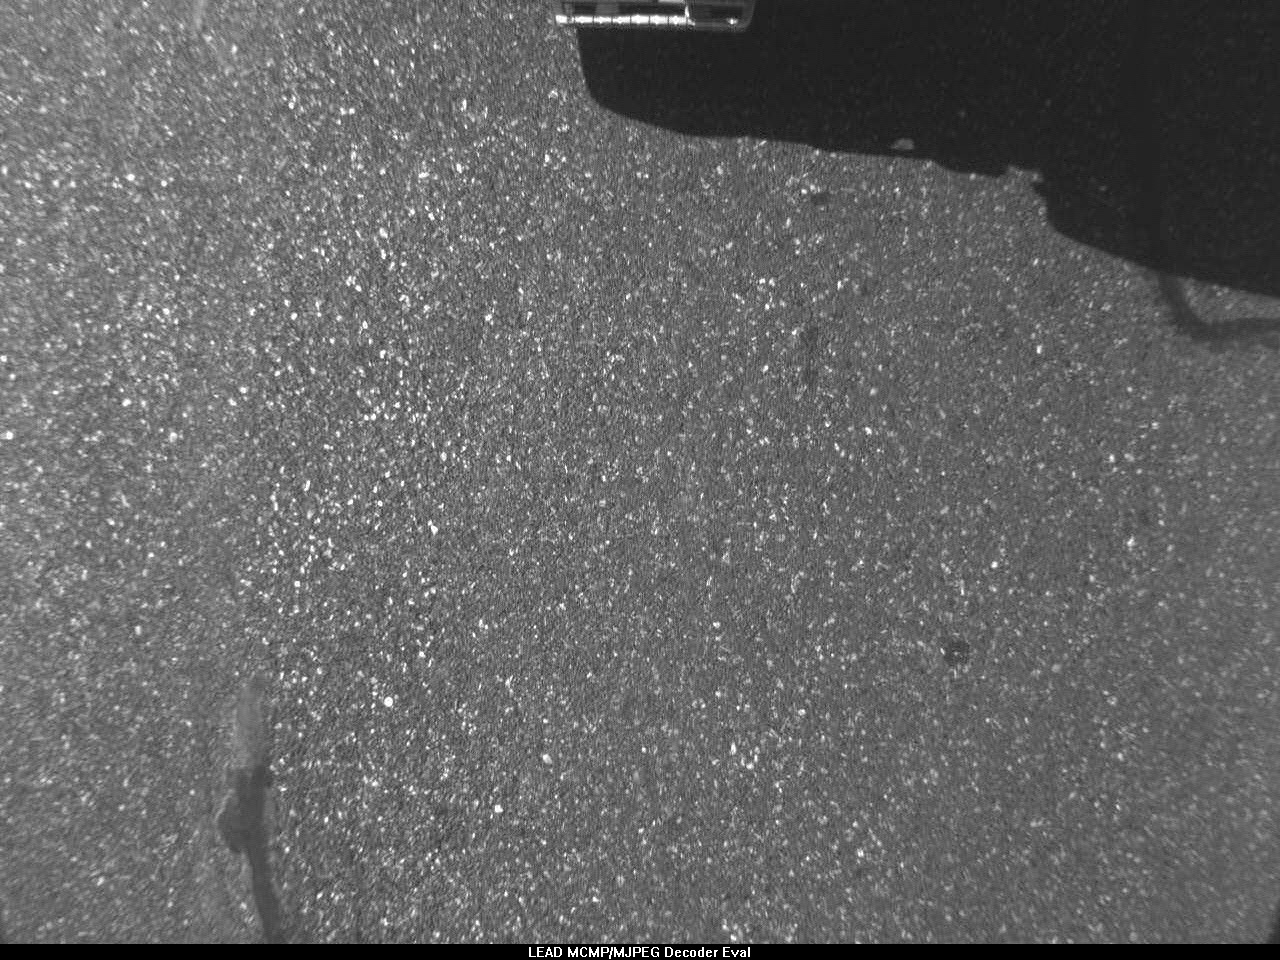sealed: (206, 753, 308, 932)
